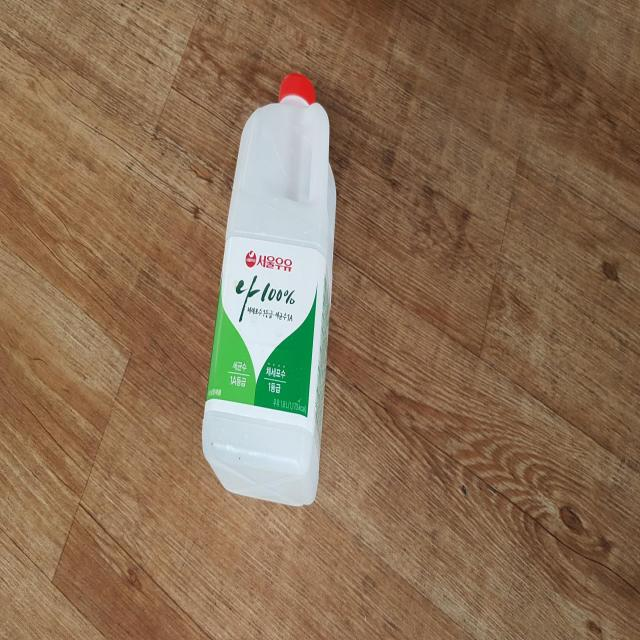plastic: (202, 72, 336, 505)
